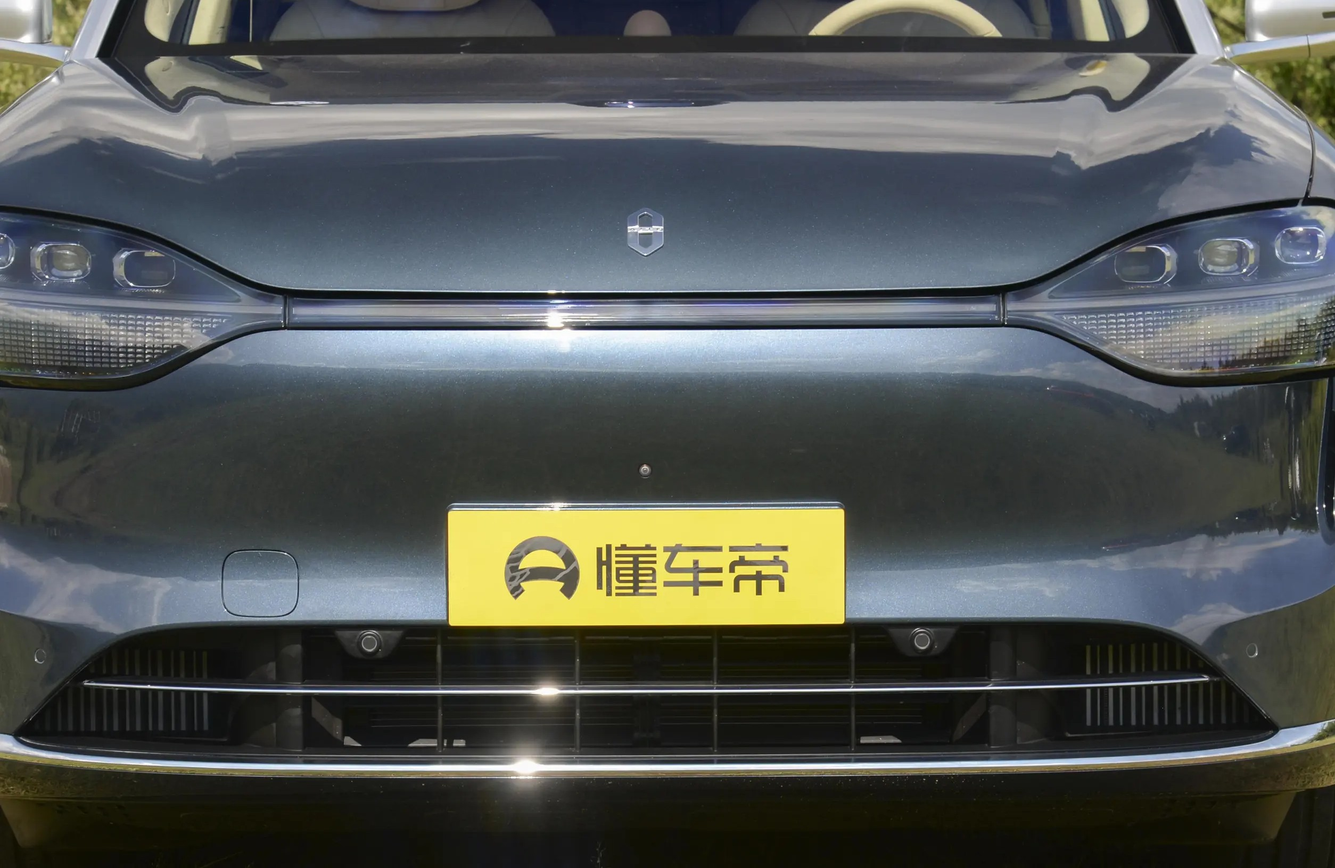AITO: (627, 208, 664, 256)
